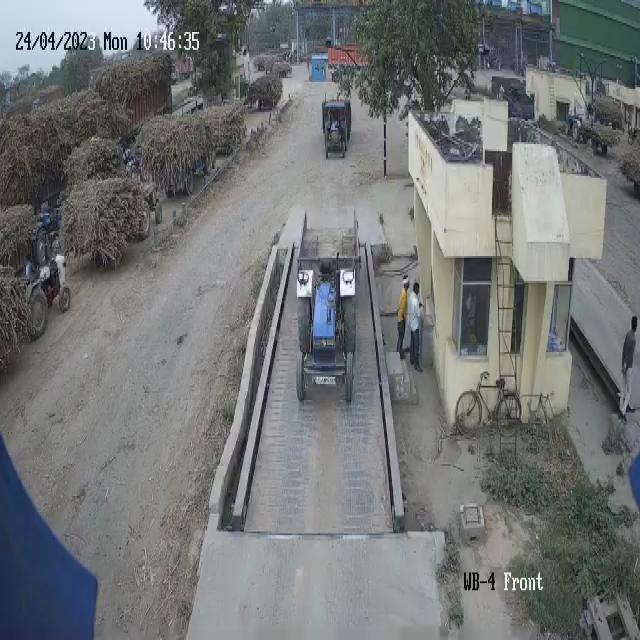Tratores - v5 YOLO V8L 2024-11-13: (292, 264, 362, 410), (24, 215, 74, 344), (315, 106, 355, 162)
